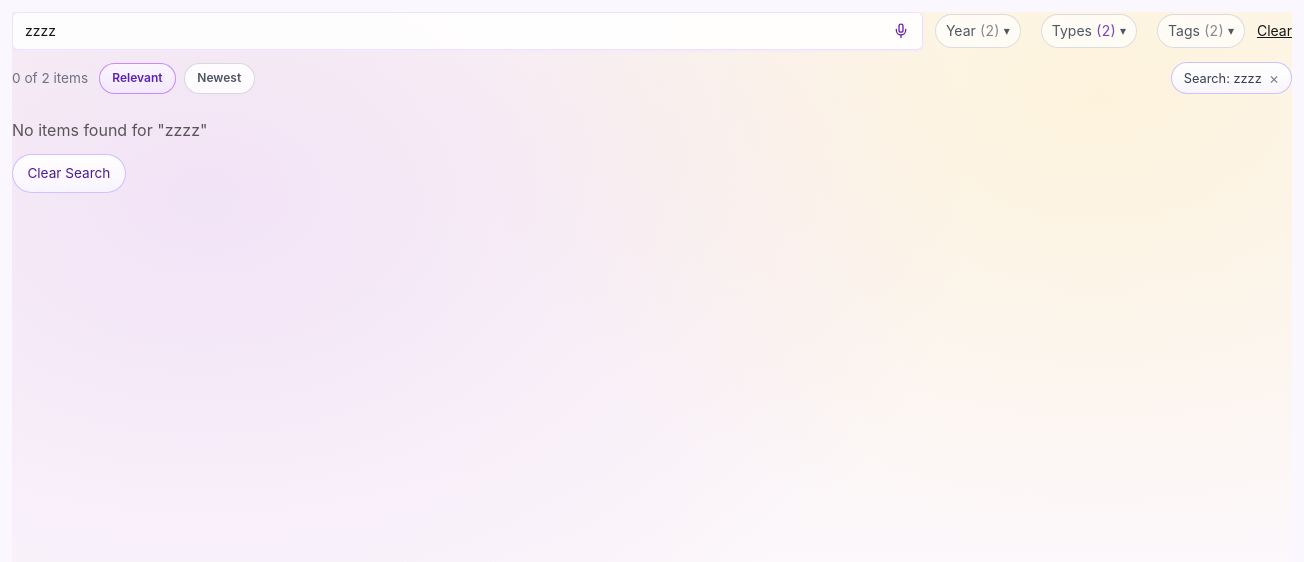
Test: PublicationsClient › offers quick recovery actions when no publication results remain
Expected: the field named "Search..." holds "zzzz", [12,12,923,50]
Expected: the element with test id "filter-empty-state" shows "No items found for \"zzzz\"", [12,120,208,140]
Click the button "Clear Search". click: (69, 174)
box: [12,154,126,193]
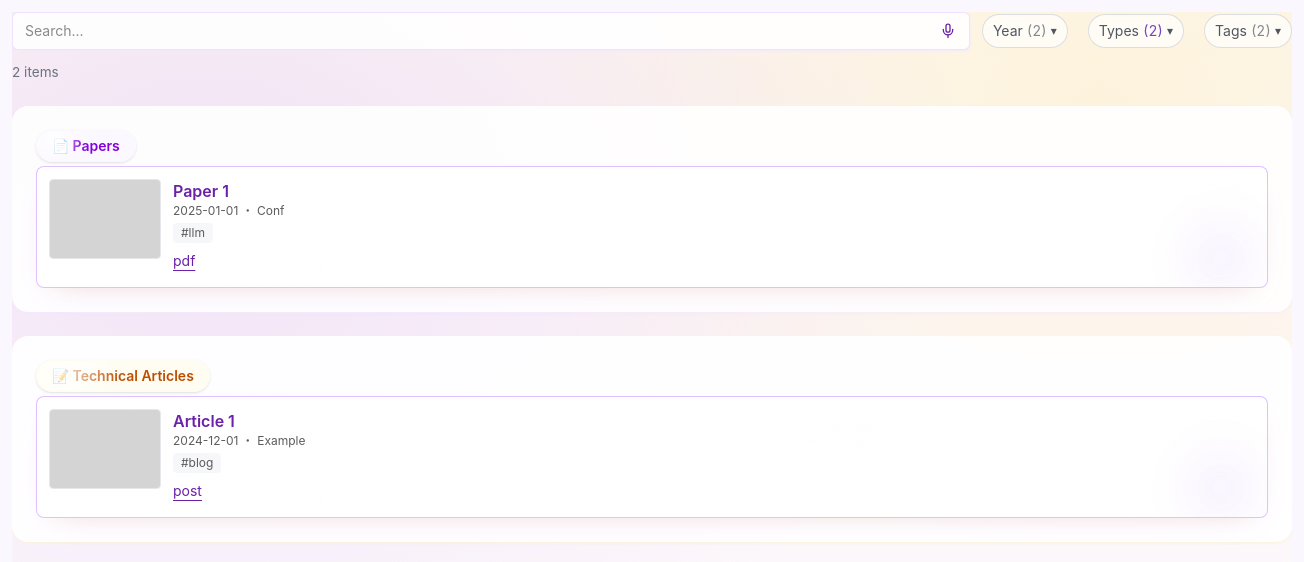
Expected: the field labelled "Search..." is empty, [12,12,970,50]
Expected: the element with test id "filter-empty-state" is gone
